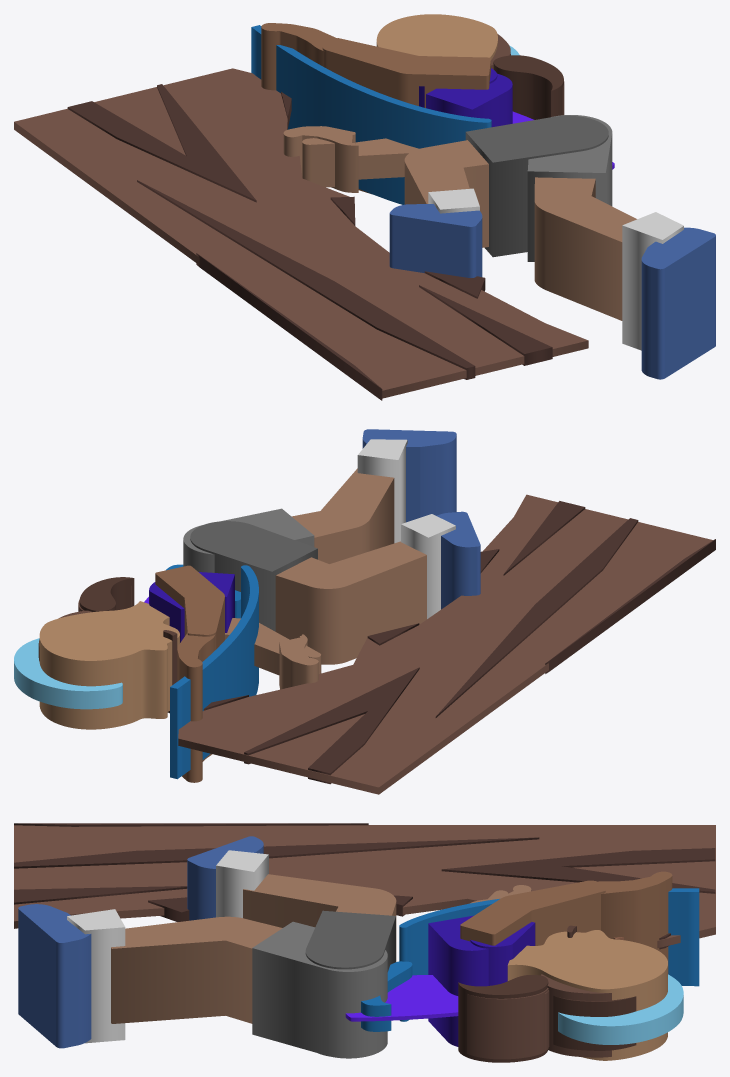
The model's file is emoji_u1f9d7_1f3fd_200d_2640.glb.
3 renders of one model, top to bottom at view 1: azimuth 30°, elevation 25°; view 2: azimuth 150°, elevation 25°; view 3: azimuth 270°, elevation 25°, orthographic. The views are drawn at different scales.
Parts seen in each view (by area): view 1: emoji_u1f9d7_1f3fd_200d_2640; view 2: emoji_u1f9d7_1f3fd_200d_2640; view 3: emoji_u1f9d7_1f3fd_200d_2640.
Part boxes in pixels (x1,y1,x2,y2): emoji_u1f9d7_1f3fd_200d_2640: [14, 14, 715, 400]; emoji_u1f9d7_1f3fd_200d_2640: [14, 429, 715, 794]; emoji_u1f9d7_1f3fd_200d_2640: [14, 823, 715, 1062].
Bounding box in the file's own units: 0.0236 × 0.0066 × 0.0338.
